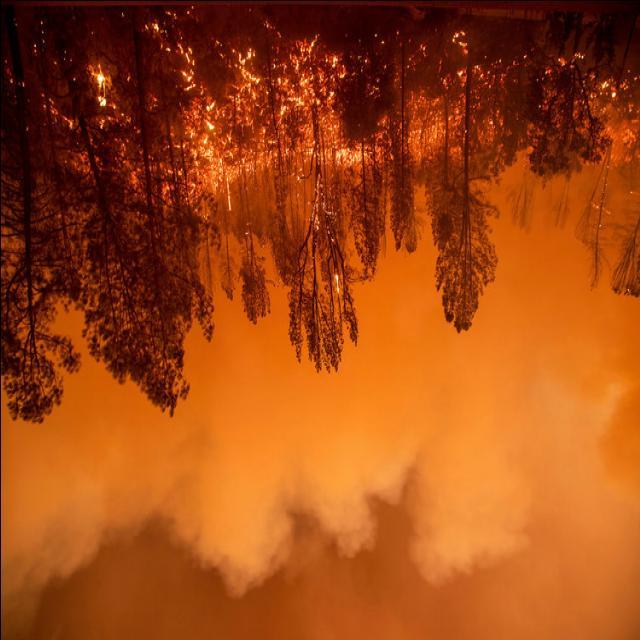Fire: (82, 28, 362, 206)
